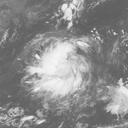cyclone: (30, 39, 89, 93)
